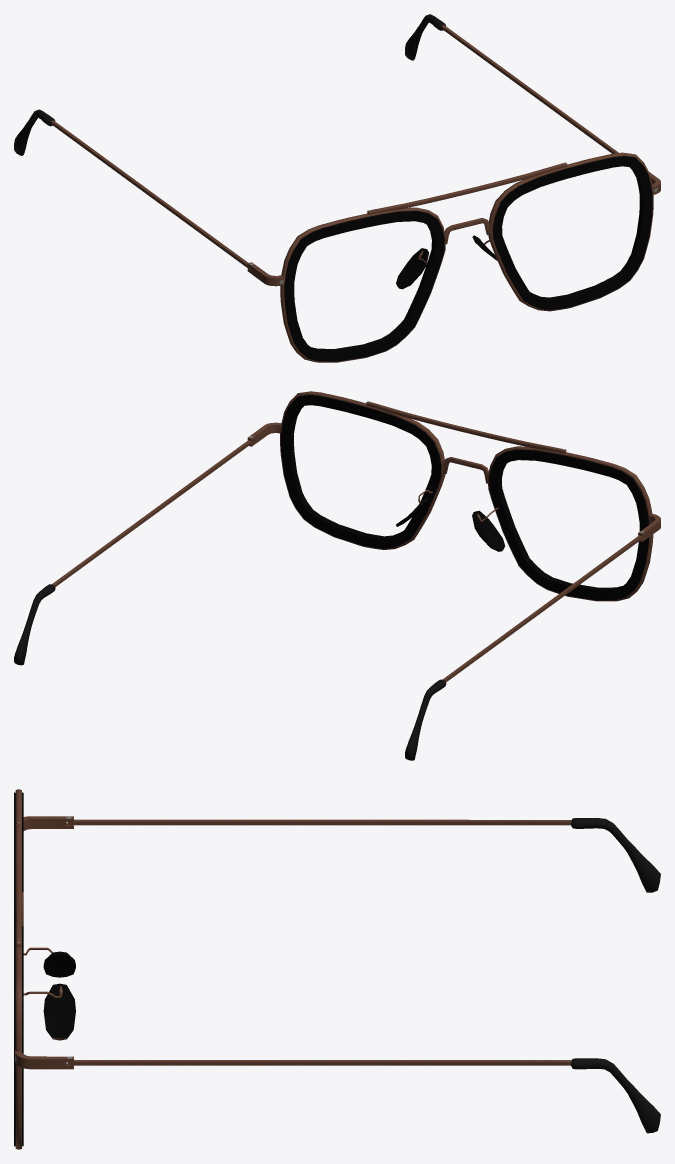
File: glasses3.glb
The picture shows the model from 3 angles, top to bottom: view 1: azimuth 30°, elevation 25°; view 2: azimuth 150°, elevation 25°; view 3: azimuth 270°, elevation 25°; orthographic projection. The views are drawn at different scales.
Parts seen in each view (by area): view 1: Cube.001; view 2: Cube.001; view 3: Cube.001.
Boxes of the visible parts, x1,y1,x2,y2 form: Cube.001: [14, 14, 660, 362]; Cube.001: [14, 391, 660, 760]; Cube.001: [14, 789, 660, 1149].
Bounding box in the file's own units: 3.32 × 1.16 × 3.69.
1 material, 1 textured.
